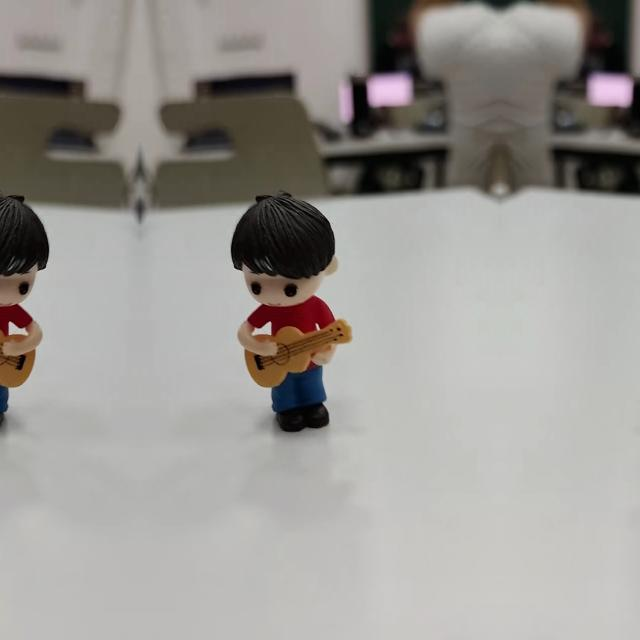man cloth: (246, 301, 334, 337), (0, 301, 34, 337)
man head: (228, 188, 338, 308), (0, 187, 52, 308)
trousers: (270, 358, 336, 430), (0, 358, 9, 430)
